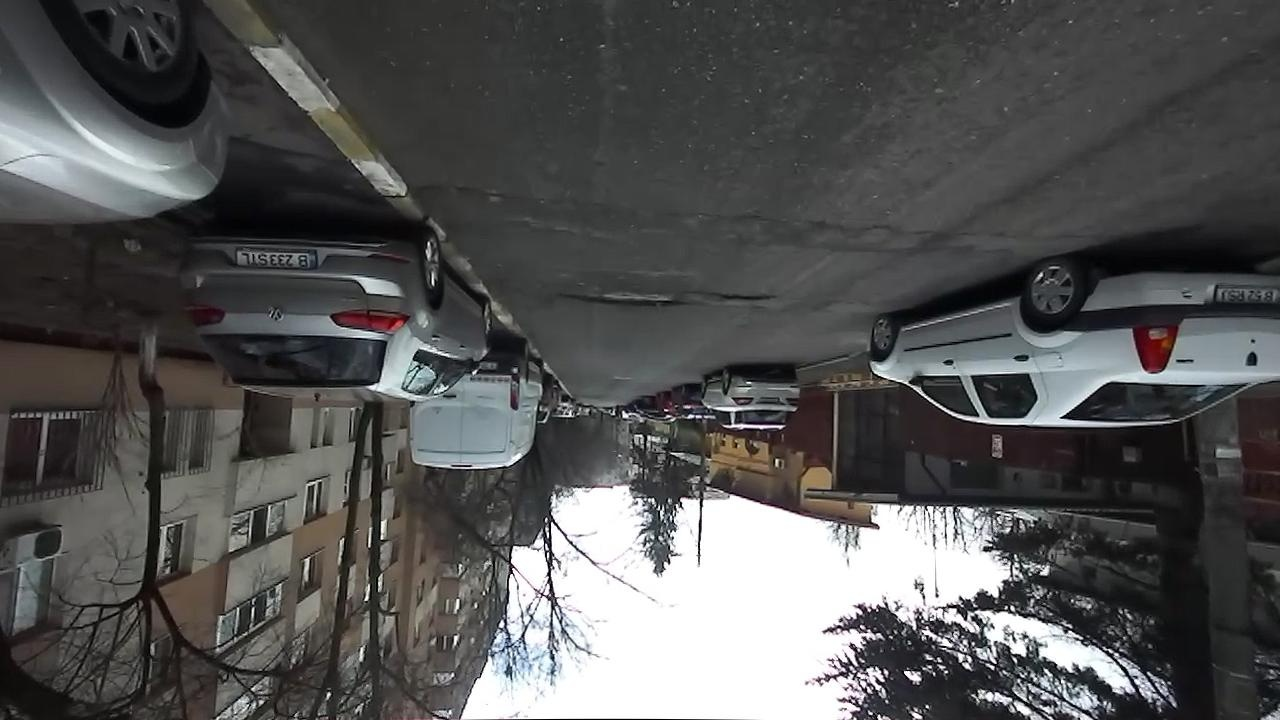pothole: (554, 286, 691, 309), (422, 180, 511, 202), (706, 289, 779, 304)
